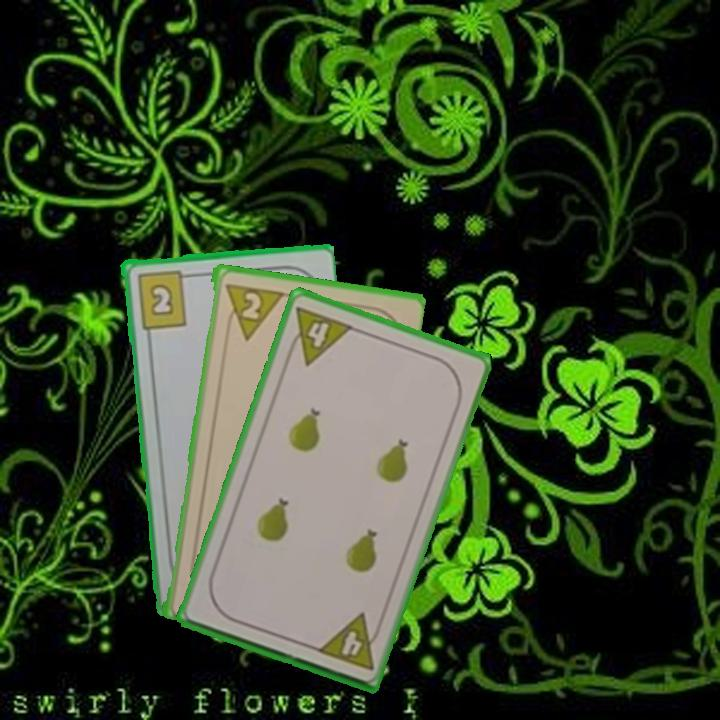2b: (133, 266, 194, 331)
2p: (221, 279, 284, 342)
4p: (282, 302, 356, 368), (313, 610, 385, 673)
